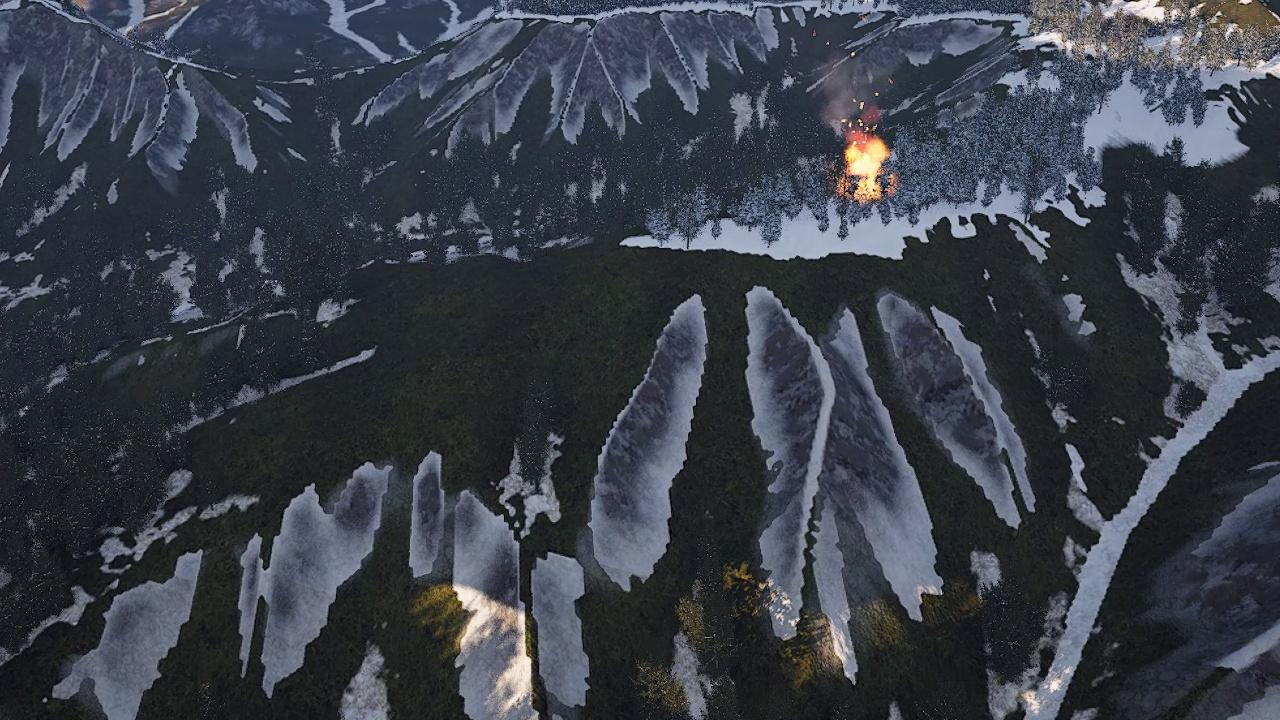fire: (839, 135, 893, 201)
smoke: (818, 56, 888, 135)
